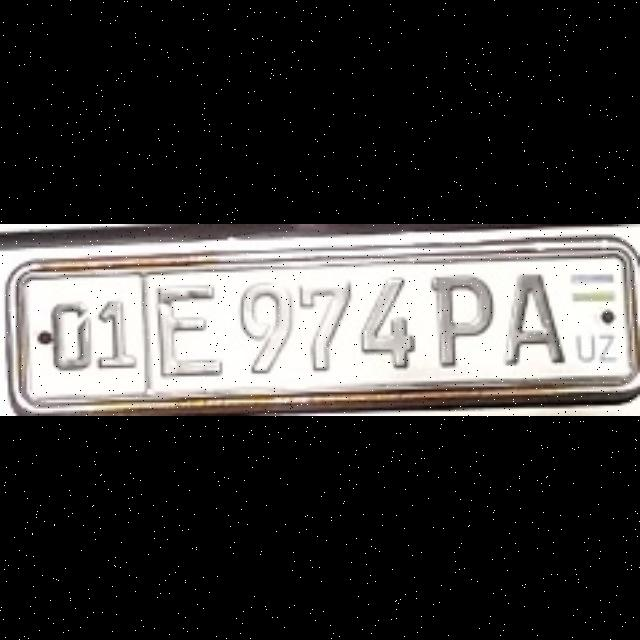0: (48, 299, 88, 369)
1: (96, 298, 132, 366)
4: (358, 278, 409, 366)
7: (300, 280, 348, 368)
9: (238, 280, 290, 368)
A: (504, 272, 560, 364)
E: (155, 283, 217, 371)
P: (432, 272, 491, 366)
